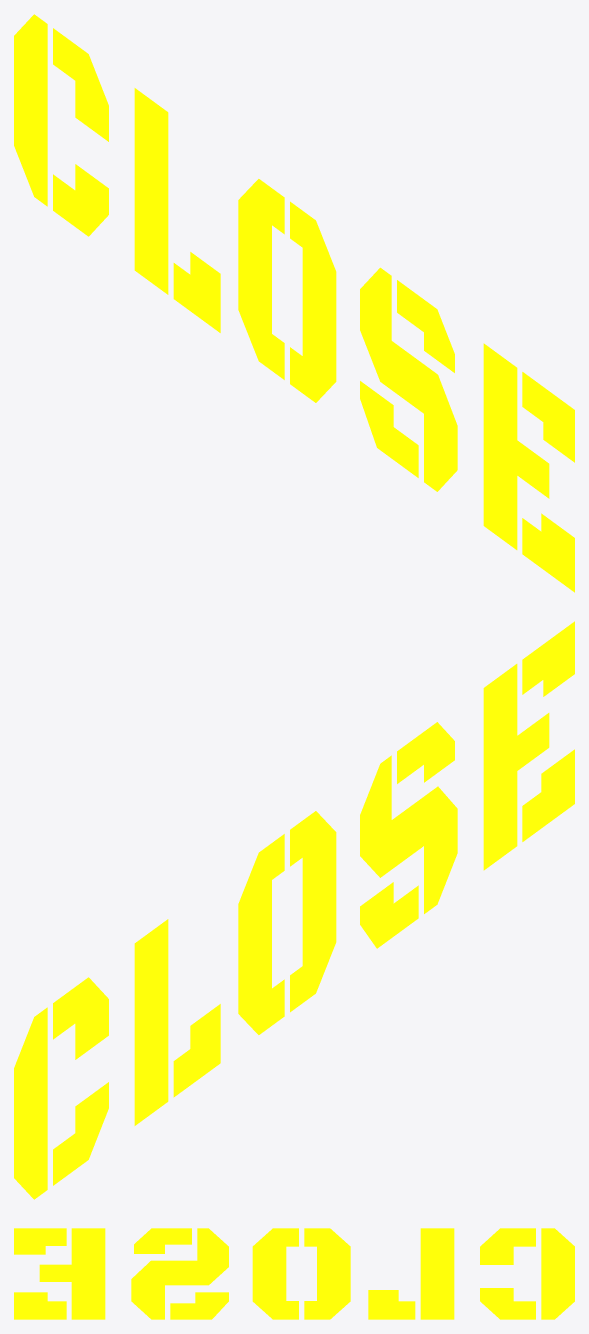
File: Close_Txt.fbx
3 views of the same model, one above another, from view 1: azimuth 30°, elevation 25°; view 2: azimuth 150°, elevation 25°; view 3: azimuth 270°, elevation 25° (orthographic). The views are drawn at different scales.
Visible parts, largest first — view 1: Close_txt; view 2: Close_txt; view 3: Close_txt.
Part boxes in pixels (box(x1,y1,x2,y2)): Close_txt: box(14, 14, 574, 592); Close_txt: box(14, 621, 574, 1199); Close_txt: box(14, 1228, 574, 1319).
Size of the model in its own units: 1.65e-05 by 36.29 by 202.
